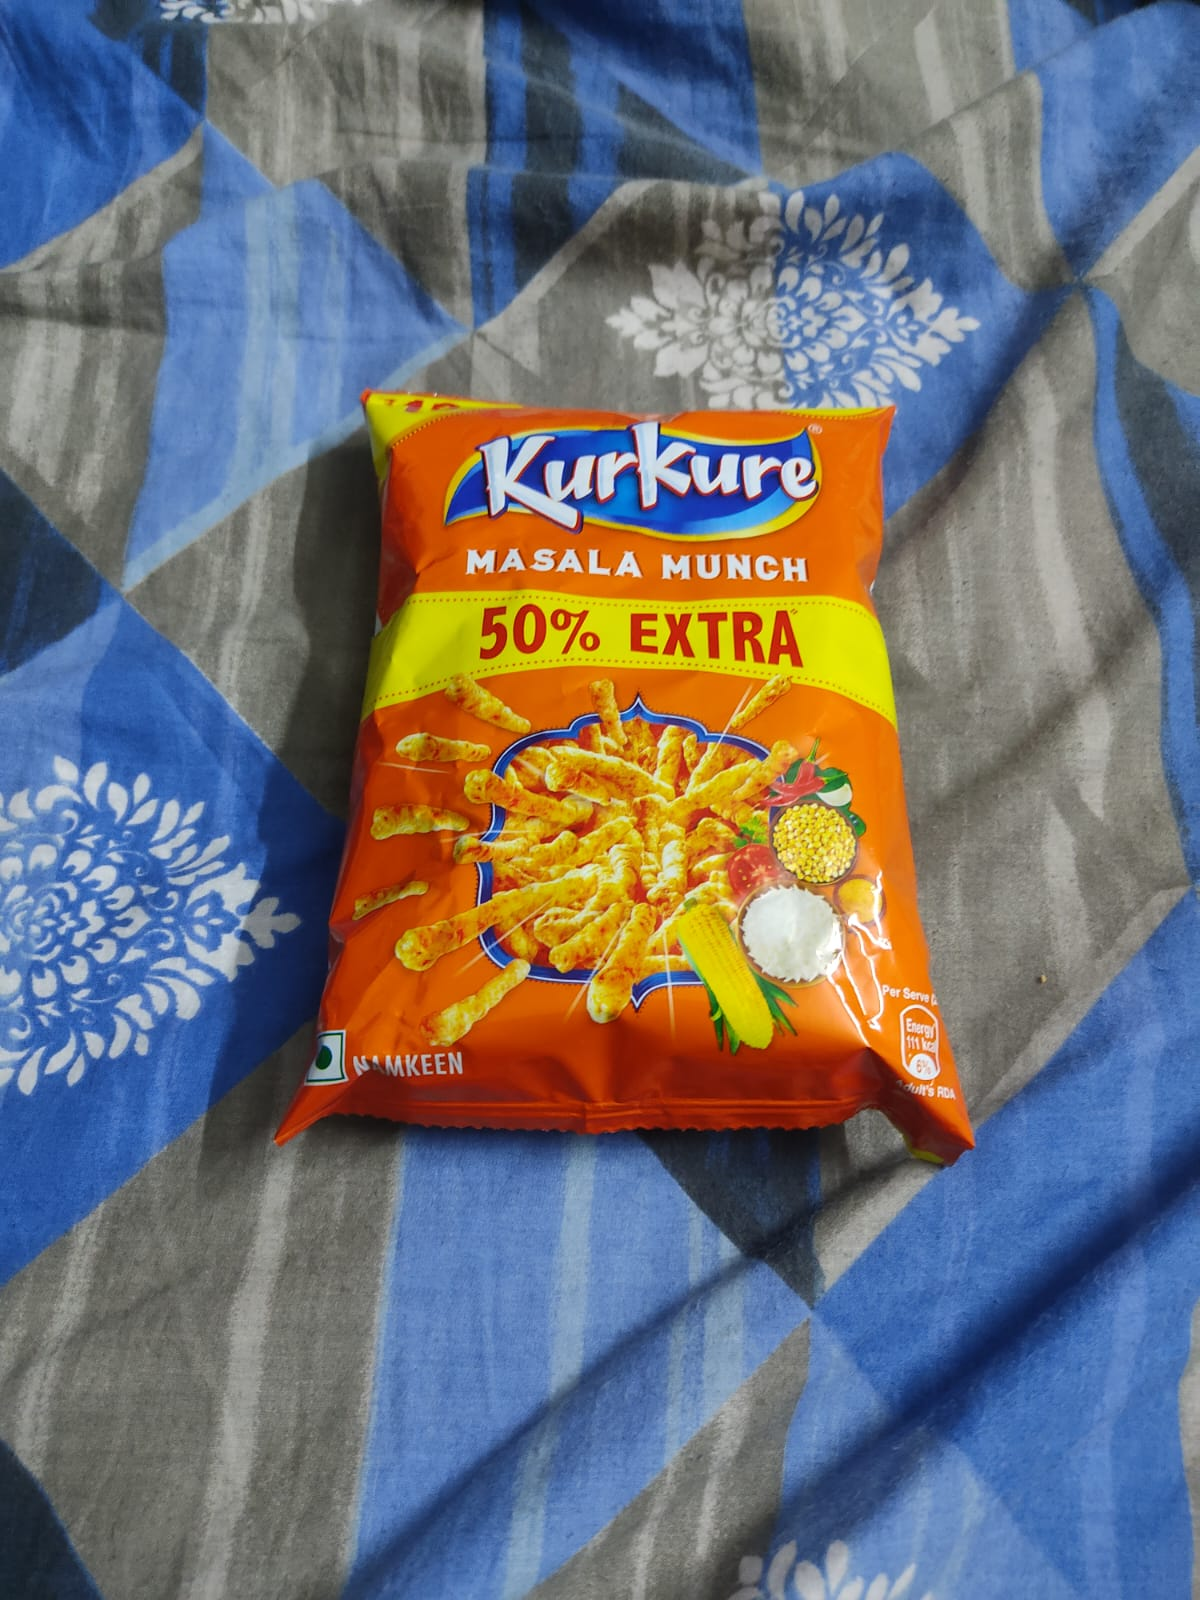010_Kurkure: (373, 396, 935, 1085)
